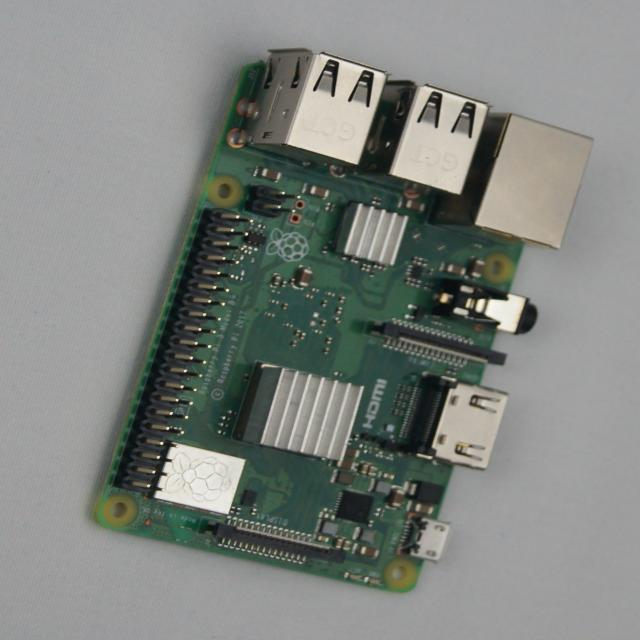Raspberry Pi 3 B-: (97, 49, 592, 592)
